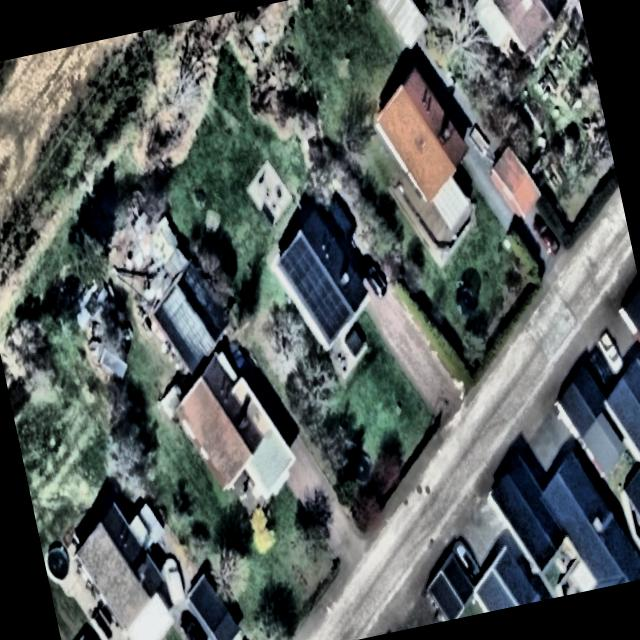roof_pv: (294, 277, 358, 344), (272, 230, 332, 291)
